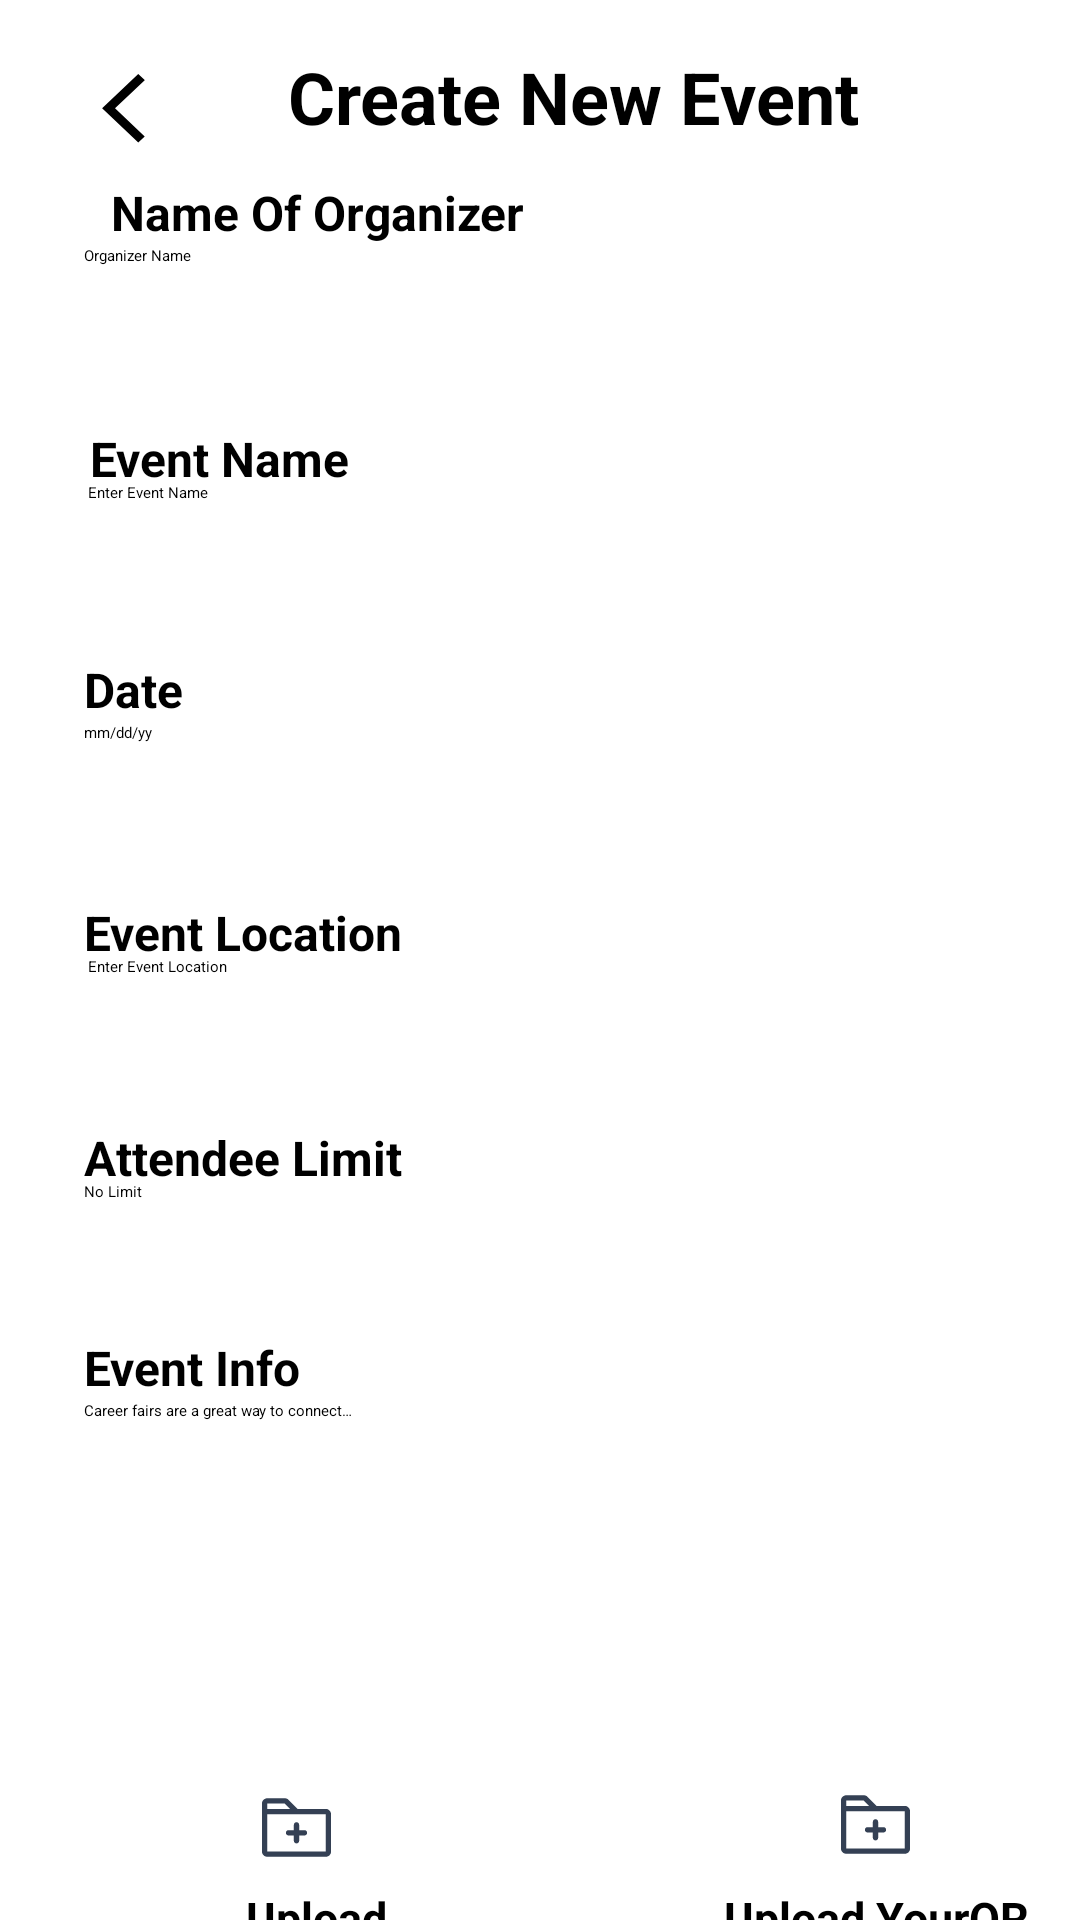

Screen size 1080*1920. Icon name, then its center in pixels as (x=x, y=y):
back button implemented with less then: (x=123, y=108)
folder plus upload: (x=296, y=1827)
